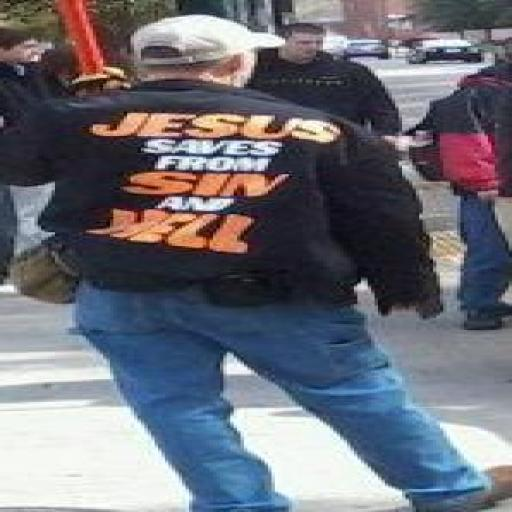person: (0, 16, 511, 511), (413, 71, 511, 330), (248, 23, 402, 140), (0, 187, 48, 282)
